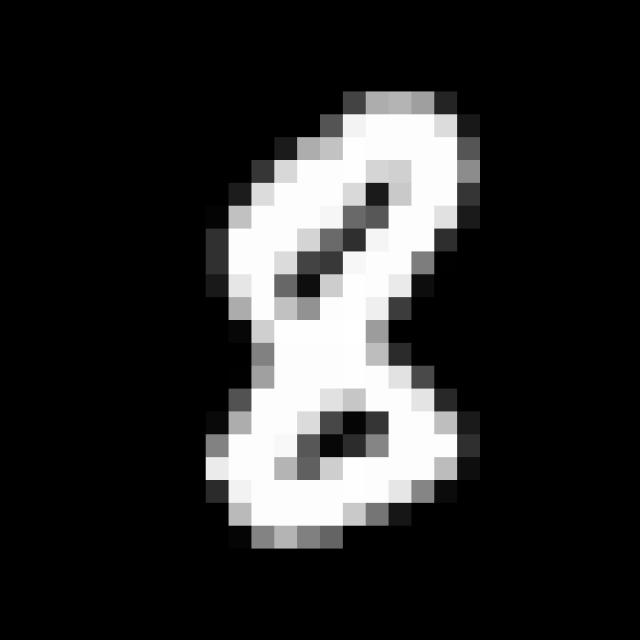eight -8-: (199, 82, 492, 547)
